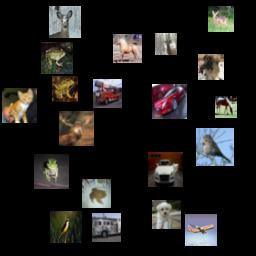airplane: (185, 214, 217, 246)
automobile: (152, 84, 187, 119), (148, 152, 183, 187)
bird: (196, 128, 234, 166), (50, 211, 82, 243)
cat: (2, 88, 37, 123)
deer: (59, 111, 94, 146), (49, 6, 81, 38), (208, 6, 234, 32), (155, 33, 177, 55)
dog: (152, 200, 181, 229), (198, 54, 224, 80)
frog: (34, 154, 69, 189), (41, 42, 73, 74), (82, 179, 111, 208), (52, 76, 78, 102)
truck: (93, 79, 122, 108), (92, 213, 121, 242)
